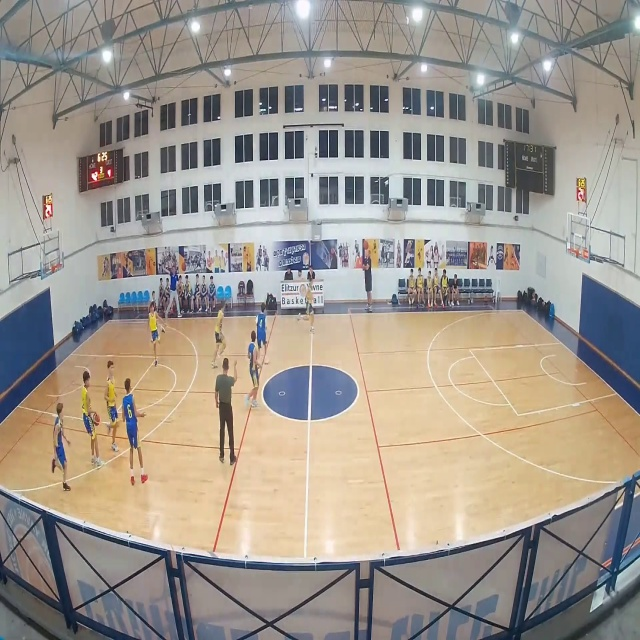Basketball: (92, 412, 100, 425)
